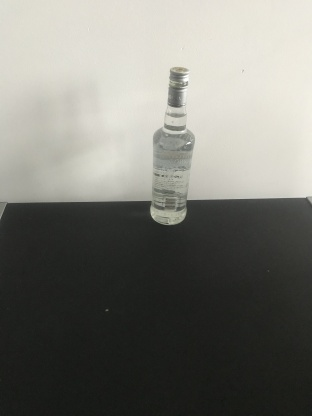nakretka: (166, 64, 190, 108)
